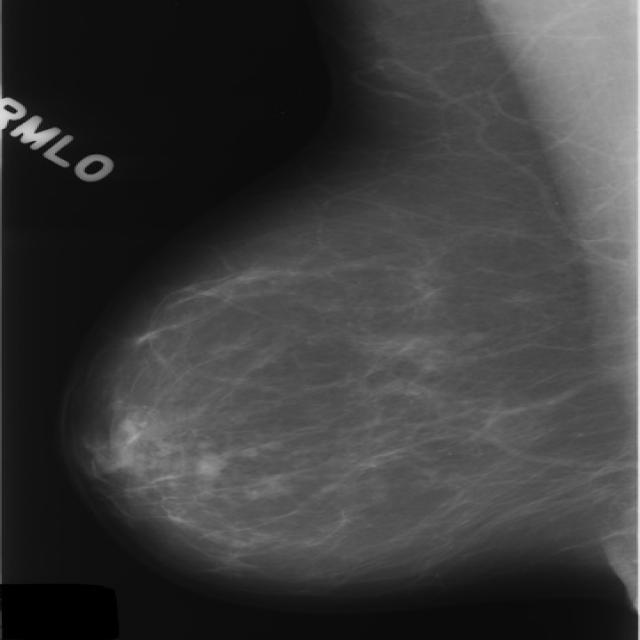tumour: (194, 451, 224, 478)
